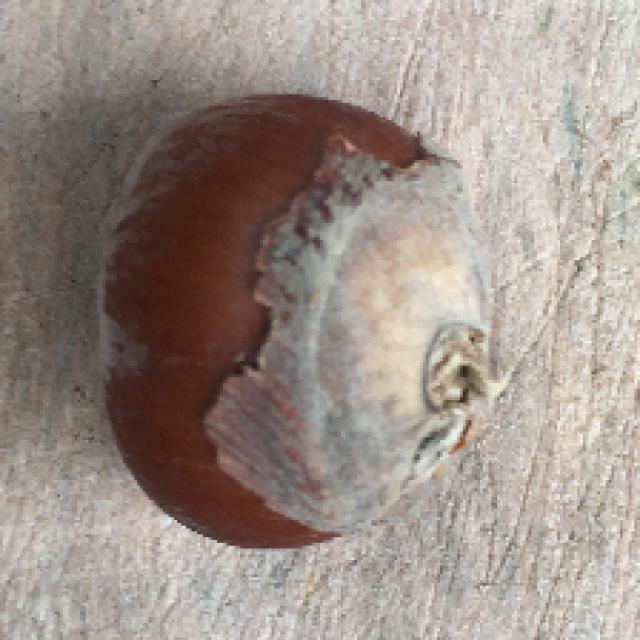hazelnut: (90, 77, 506, 556)
